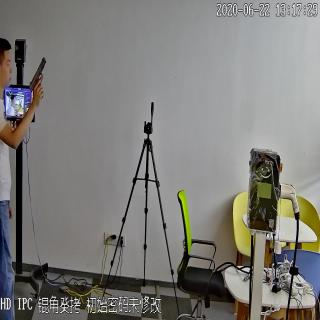gun: (28, 55, 48, 101)
